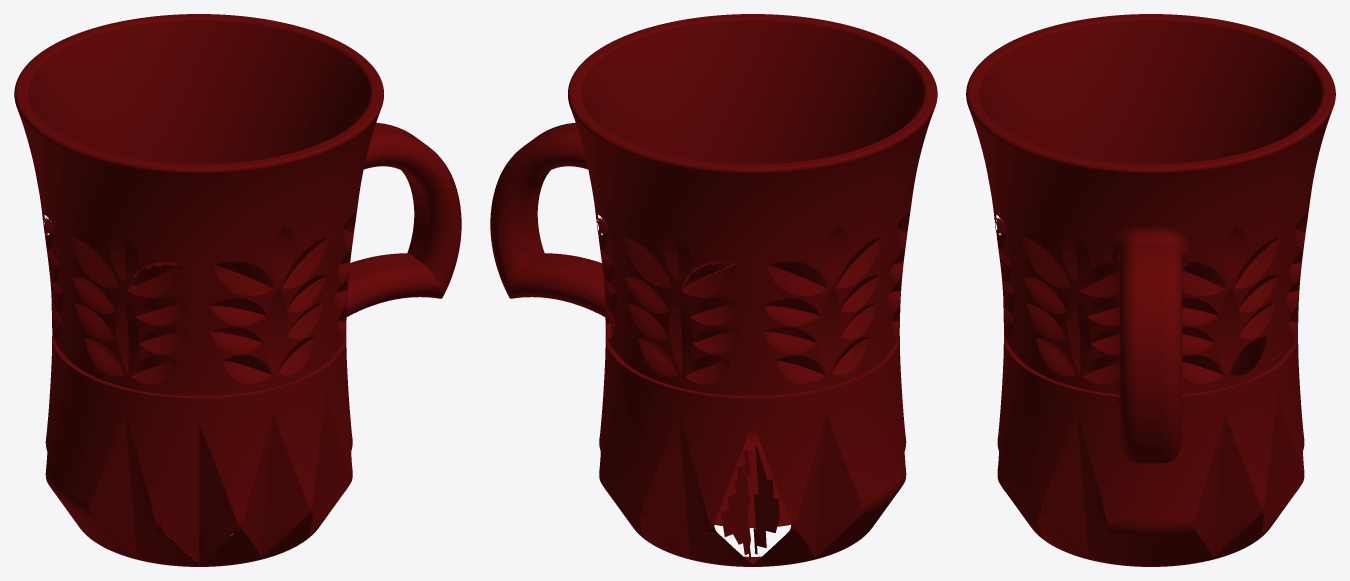
Rendered from Sonbola_Coffee.glb.
3 renders of one model, left to right at view 1: azimuth 30°, elevation 25°; view 2: azimuth 150°, elevation 25°; view 3: azimuth 270°, elevation 25°, orthographic.
Parts seen in each view (by area): view 1: Imported1 (×51), object 5; view 2: Imported1 (×52); view 3: Imported1 (×53).
Boxes of the visible parts, x1,y1,x2,y2 form: Imported1 (×51): (14,14,461,564); object 5: (131,360,177,384); Imported1 (×52): (490,14,937,564); Imported1 (×53): (966,14,1335,564).
Bounding box in the file's own units: 0.0762 × 0.0751 × 0.059.
